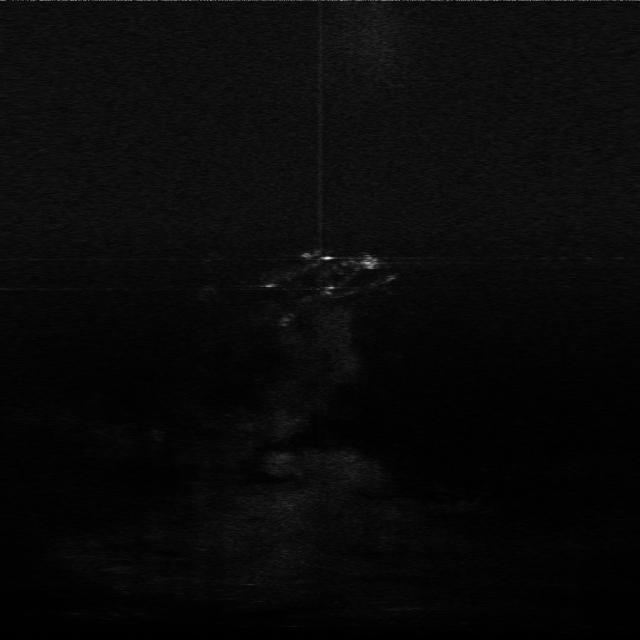rov: (358, 253, 382, 270)
